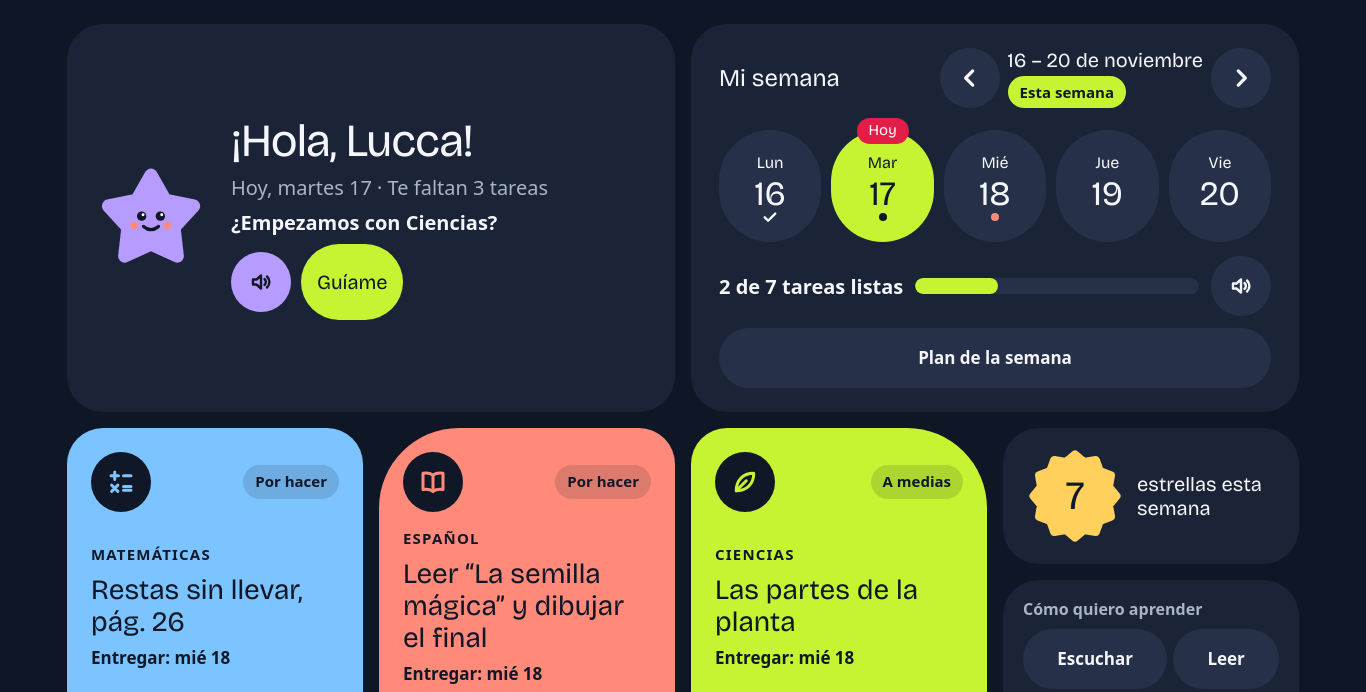
Scenario: WeekScreen week selection and summary › previous week shows Monday 9
Step 1. Click the button named "Semana anterior" → (970, 78), box [940,48,1000,108]
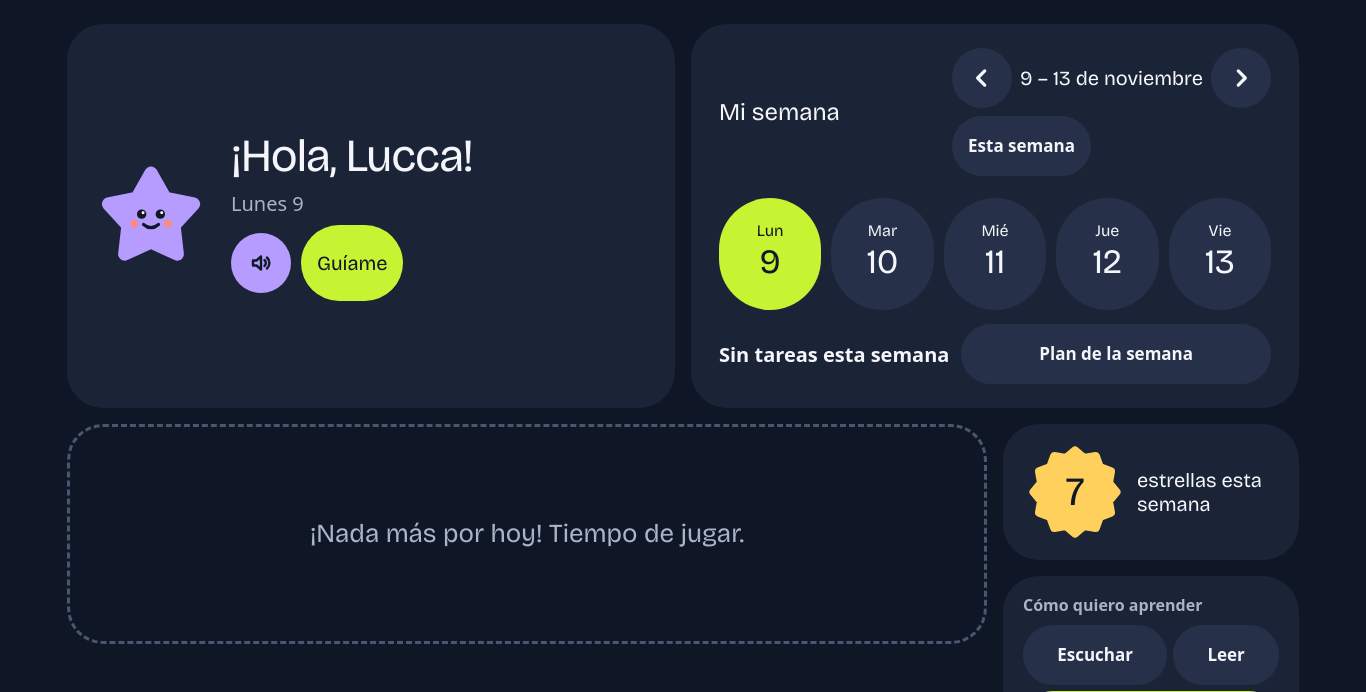
Expected: the text "9 – 13 de noviembre" is shown, [1020,66,1203,90]
Expected: the button with aria-label "Lunes 9" is shown, [719,198,821,310]
